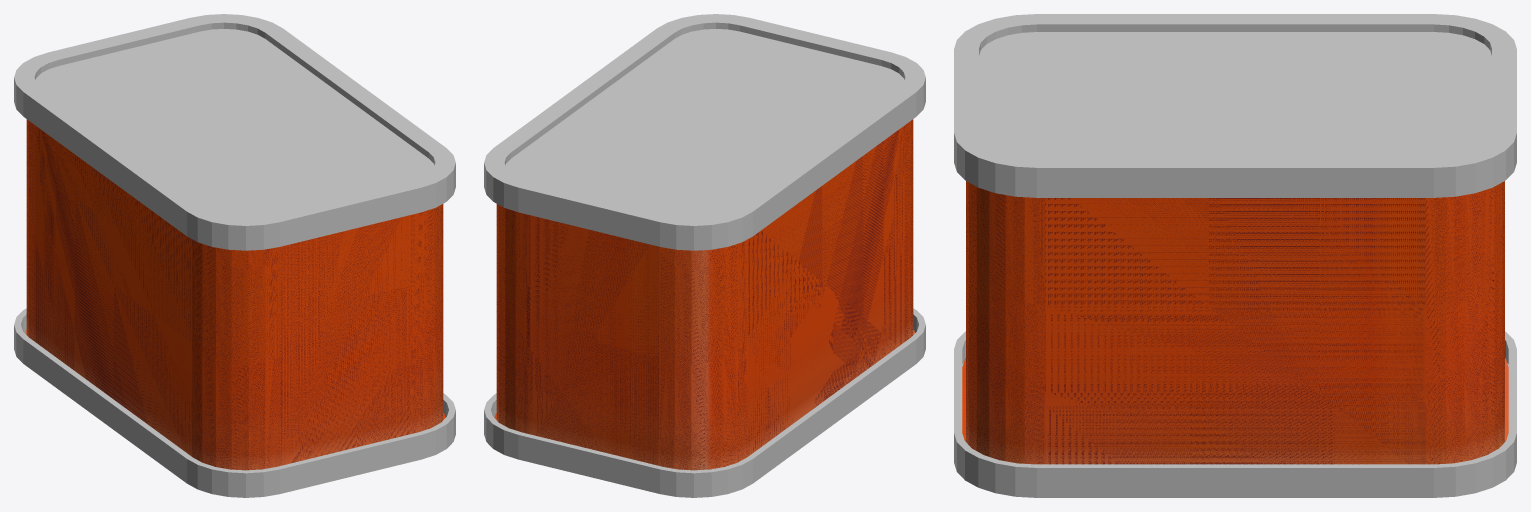
The picture shows the model from 3 angles, left to right: view 1: azimuth 30°, elevation 25°; view 2: azimuth 150°, elevation 25°; view 3: azimuth 270°, elevation 25°; orthographic projection. The views are drawn at different scales.
Parts seen in each view (by area): view 1: mesh3_mesh3-geometry, mesh2_mesh2-geometry, mesh1_mesh1-geometry; view 2: mesh3_mesh3-geometry, mesh2_mesh2-geometry, mesh1_mesh1-geometry; view 3: mesh3_mesh3-geometry, mesh2_mesh2-geometry, mesh1_mesh1-geometry.
Part boxes in pixels (x1,y1,x2,y2): mesh3_mesh3-geometry: (25, 119, 445, 470); mesh2_mesh2-geometry: (14, 14, 455, 250); mesh1_mesh1-geometry: (14, 308, 455, 497); mesh3_mesh3-geometry: (494, 119, 914, 470); mesh2_mesh2-geometry: (484, 14, 925, 250); mesh1_mesh1-geometry: (484, 308, 925, 497); mesh3_mesh3-geometry: (962, 181, 1508, 464); mesh2_mesh2-geometry: (954, 14, 1516, 197); mesh1_mesh1-geometry: (954, 331, 1516, 497).
Size of the model in its own units: 0.4774 by 0.4774 by 0.7377.
